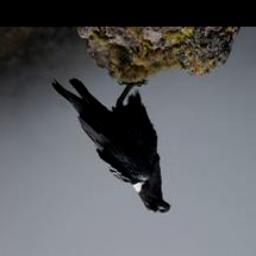Crow: (49, 72, 171, 221)
